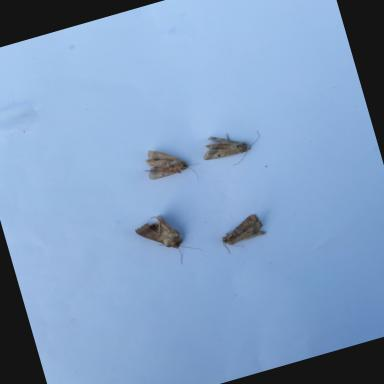abw: (132, 204, 207, 276), (136, 136, 206, 196), (197, 122, 267, 174), (216, 211, 270, 256)
